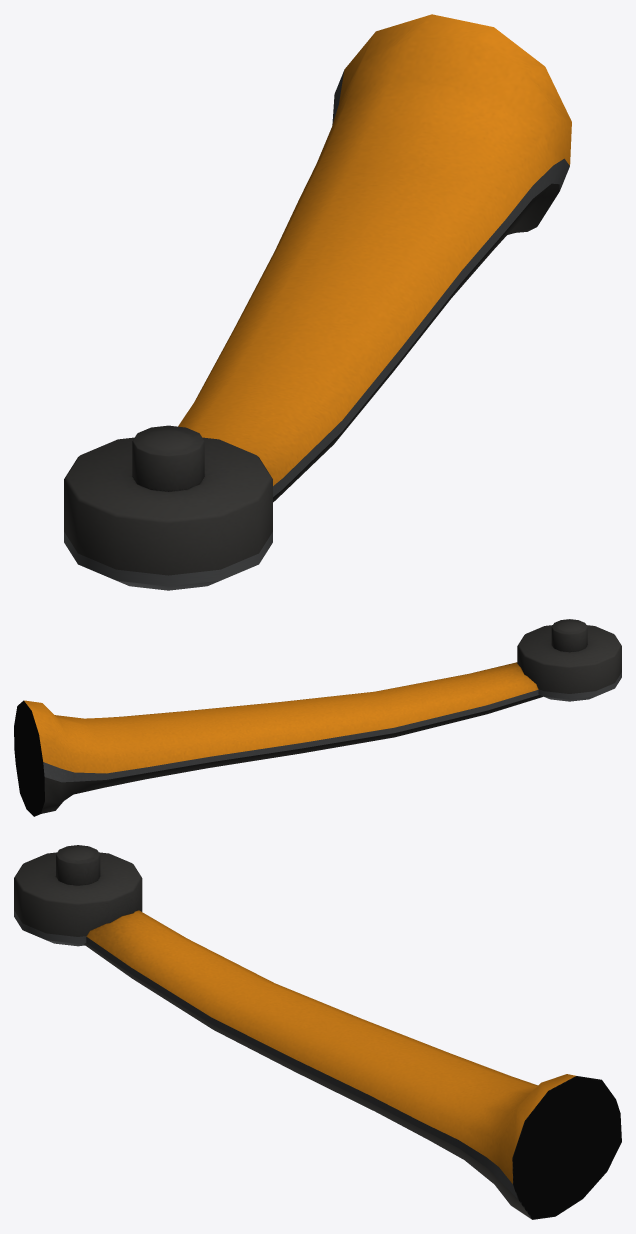
Rendered from Salamandre_BrasArriereD.FBX.
The picture shows the model from 3 angles, top to bottom: view 1: azimuth 30°, elevation 25°; view 2: azimuth 150°, elevation 25°; view 3: azimuth 270°, elevation 25°; orthographic projection. The views are drawn at different scales.
Visible parts, largest first — view 1: Salamandre_BrasArriereD; view 2: Salamandre_BrasArriereD; view 3: Salamandre_BrasArriereD.
Part boxes in pixels (left/top/right/bottom): Salamandre_BrasArriereD: left=64, top=14, right=571, bottom=590; Salamandre_BrasArriereD: left=14, top=619, right=621, bottom=816; Salamandre_BrasArriereD: left=14, top=845, right=621, bottom=1219.
Bounding box in the file's own units: 5.86 × 1.66 × 5.93.
